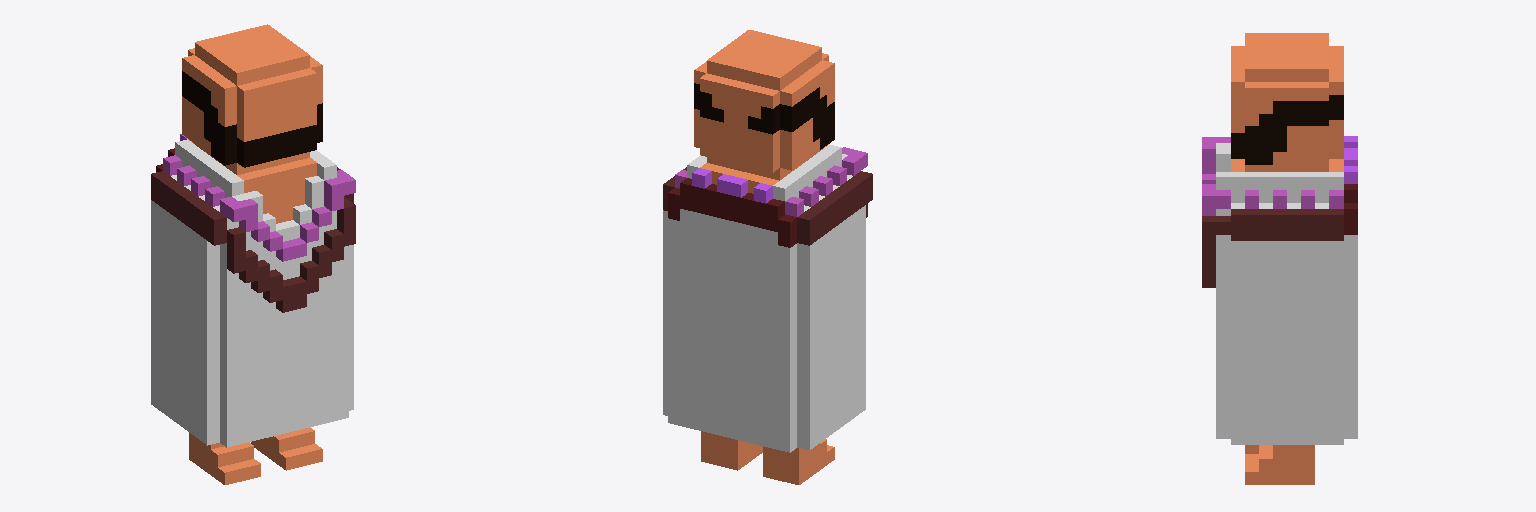
3 renders of one model, left to right at view 1: azimuth 30°, elevation 25°; view 2: azimuth 150°, elevation 25°; view 3: azimuth 270°, elevation 25°, orthographic.
Bounding box in the file's own units: 12 × 32 × 11.
Materials: 1 (1 with a texture image).